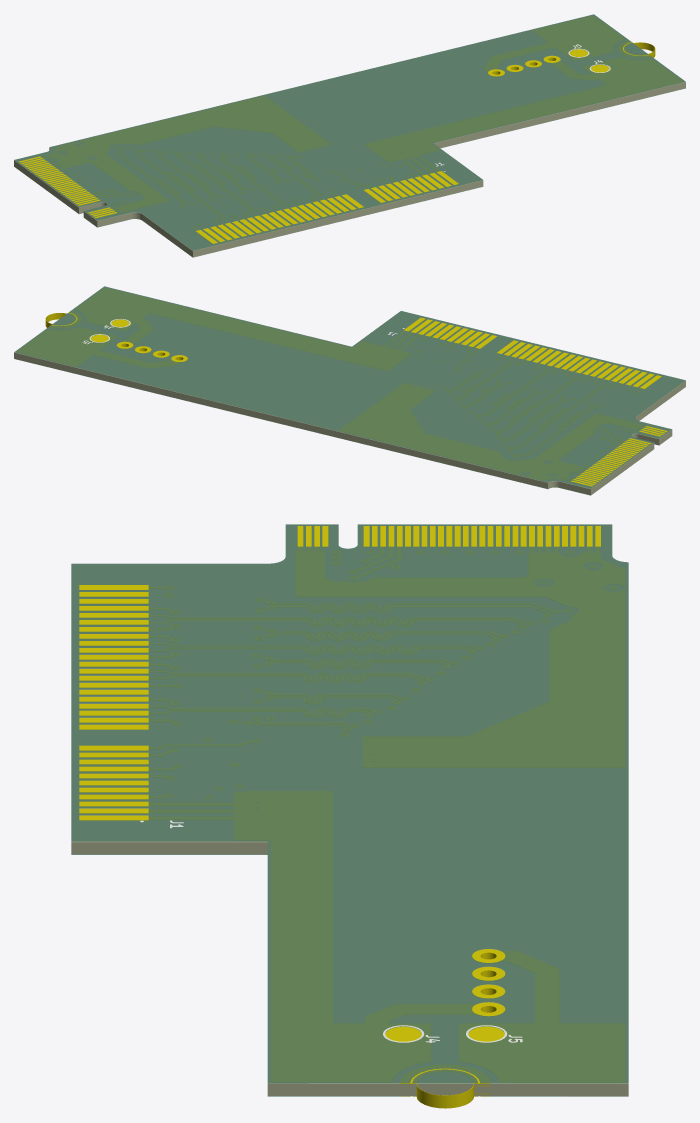
The model's file is m2-pcie-adapter.glb.
The picture shows the model from 3 angles, top to bottom: view 1: azimuth 30°, elevation 25°; view 2: azimuth 150°, elevation 25°; view 3: azimuth 270°, elevation 25°; orthographic projection. The views are drawn at different scales.
Visible parts, largest first — view 1: =>[0:1:1:7], =>[0:1:1:9], =>[0:1:1:2], =>[0:1:1:3], =>[0:1:1:8]; view 2: =>[0:1:1:7], =>[0:1:1:9], =>[0:1:1:2], =>[0:1:1:3], =>[0:1:1:8]; view 3: =>[0:1:1:7], =>[0:1:1:9], =>[0:1:1:2], =>[0:1:1:3].
Part boxes in pixels (x1,y1,x2,y2): =>[0:1:1:7]: (14,14,685,250); =>[0:1:1:9]: (14,15,685,257); =>[0:1:1:2]: (43,16,682,230); =>[0:1:1:3]: (19,49,609,243); =>[0:1:1:8]: (14,88,685,257); =>[0:1:1:7]: (14,286,685,488); =>[0:1:1:9]: (14,288,685,495); =>[0:1:1:2]: (18,288,654,480); =>[0:1:1:3]: (90,317,667,486); =>[0:1:1:8]: (15,359,685,495); =>[0:1:1:7]: (71,524,628,1083); =>[0:1:1:9]: (71,525,628,1096); =>[0:1:1:2]: (149,536,624,1096); =>[0:1:1:3]: (79,526,600,1041).
Size of the model in its own units: 0.0817 by 0.000938 by 0.0337.
